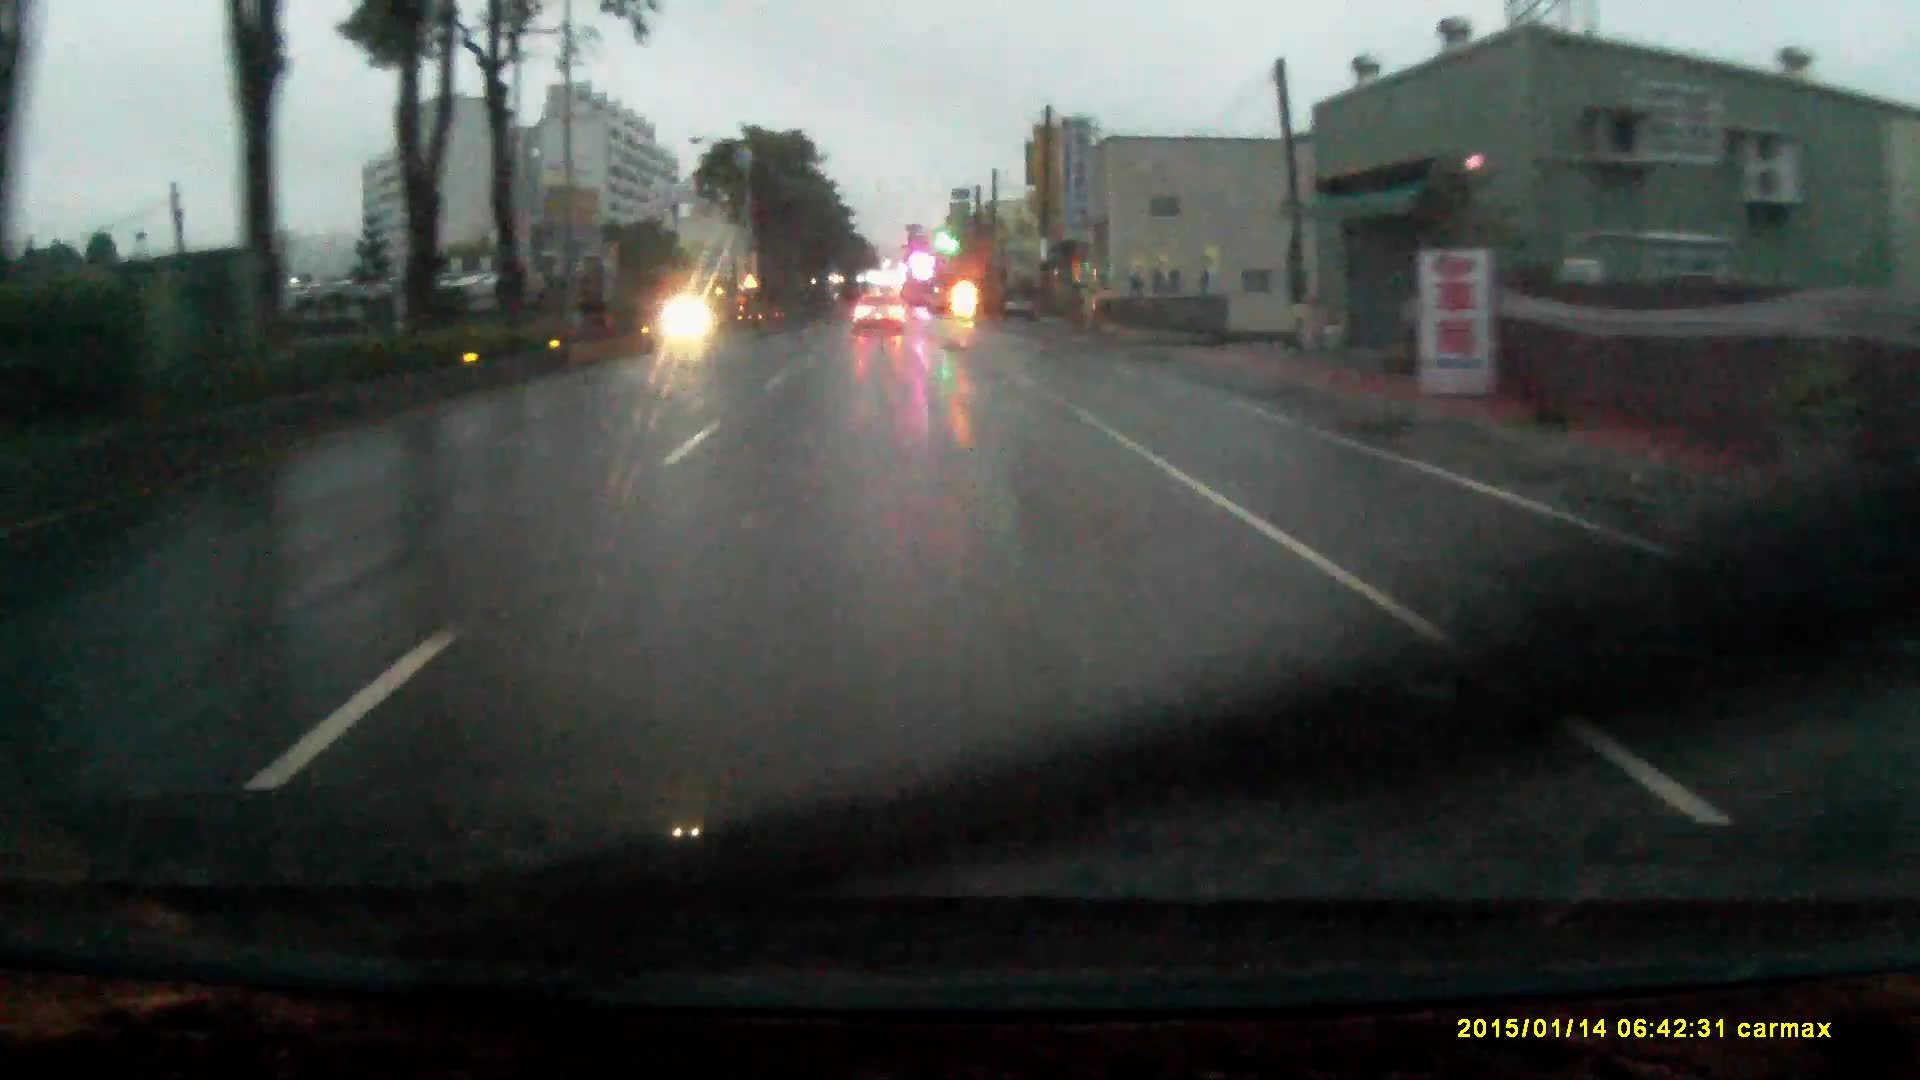vehicle: (852, 295, 905, 342), (1004, 281, 1040, 322)
